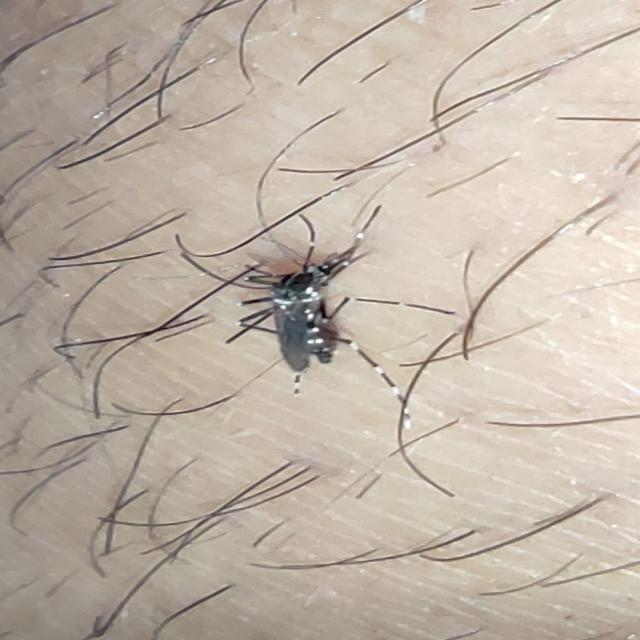albopictus: (64, 137, 576, 526)
